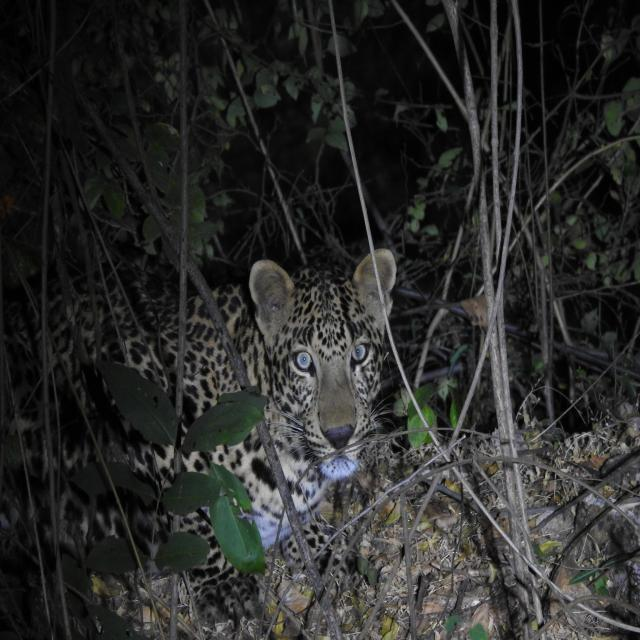Leopard: (81, 260, 401, 494)
